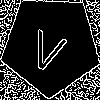V: (25, 20, 71, 75)
